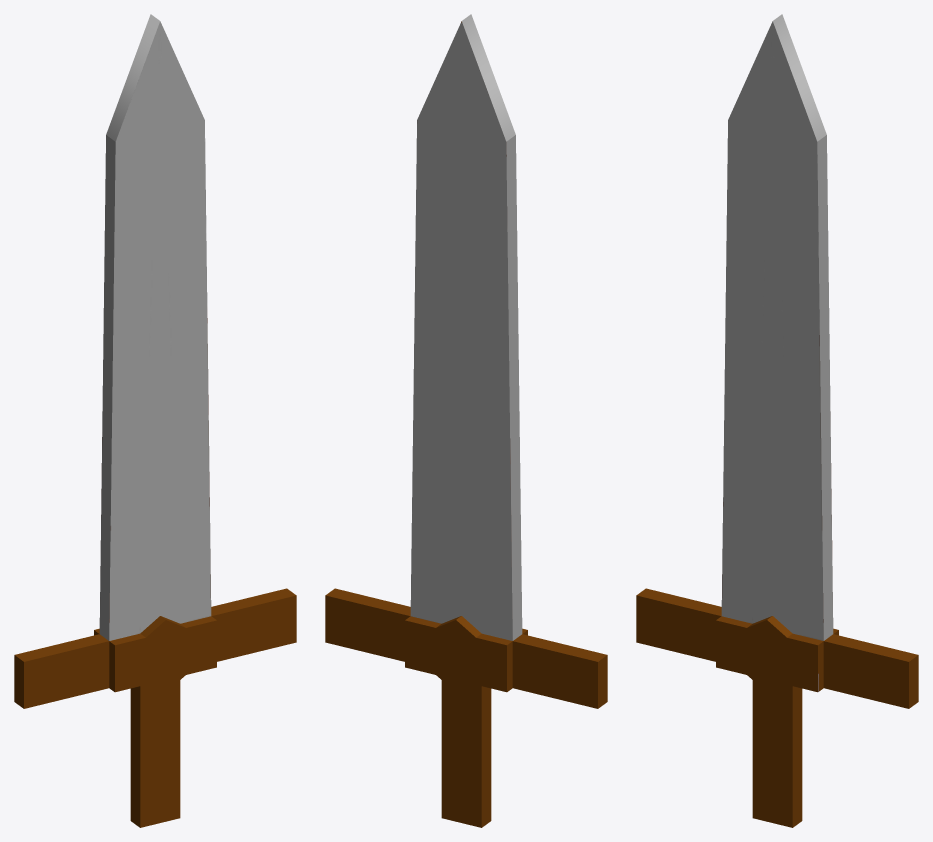
Rendered from Wepon02.fbx.
3 views of the same model, side by side, from view 1: azimuth 30°, elevation 25°; view 2: azimuth 150°, elevation 25°; view 3: azimuth 330°, elevation 25° (orthographic).
Visible parts, largest first — view 1: pCube1; view 2: pCube1; view 3: pCube1.
Boxes of the visible parts, x1,y1,x2,y2 form: pCube1: [14, 14, 296, 827]; pCube1: [325, 14, 607, 827]; pCube1: [636, 14, 918, 827].
Bounding box in the file's own units: 62.68 × 176 × 8.34.
Materials: 1 (1 with a texture image).
